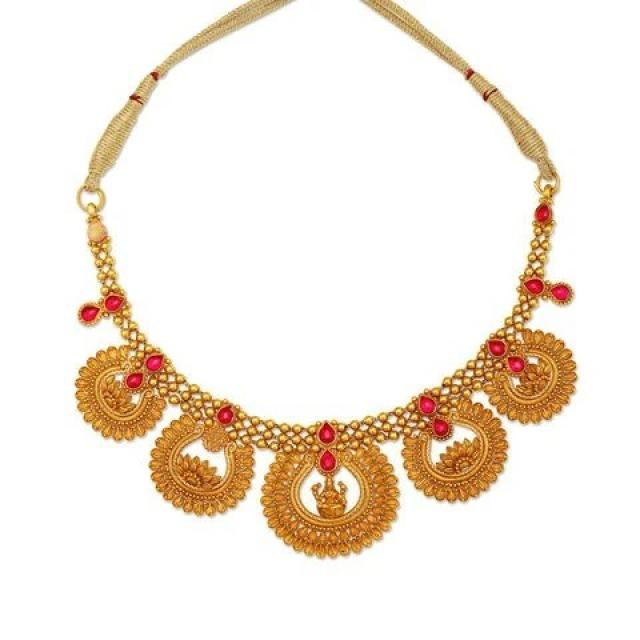missing gem: (203, 425, 222, 452), (87, 218, 107, 241)
